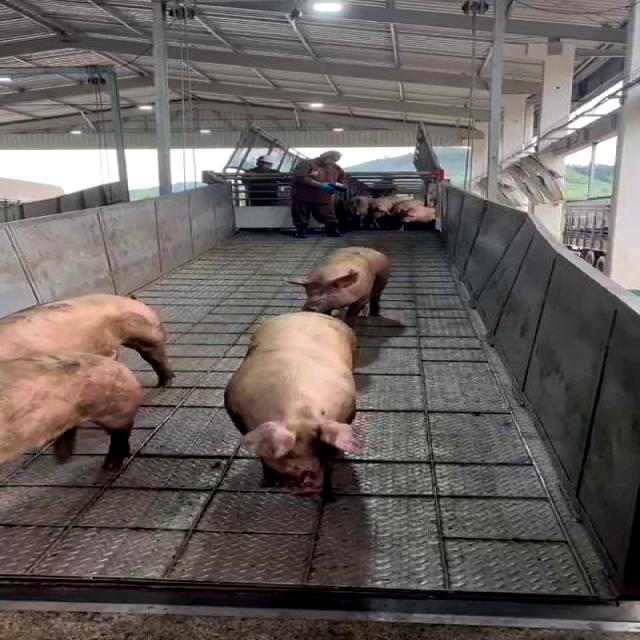pig: (225, 311, 362, 497), (0, 351, 142, 469), (0, 294, 174, 386), (289, 246, 392, 322)
